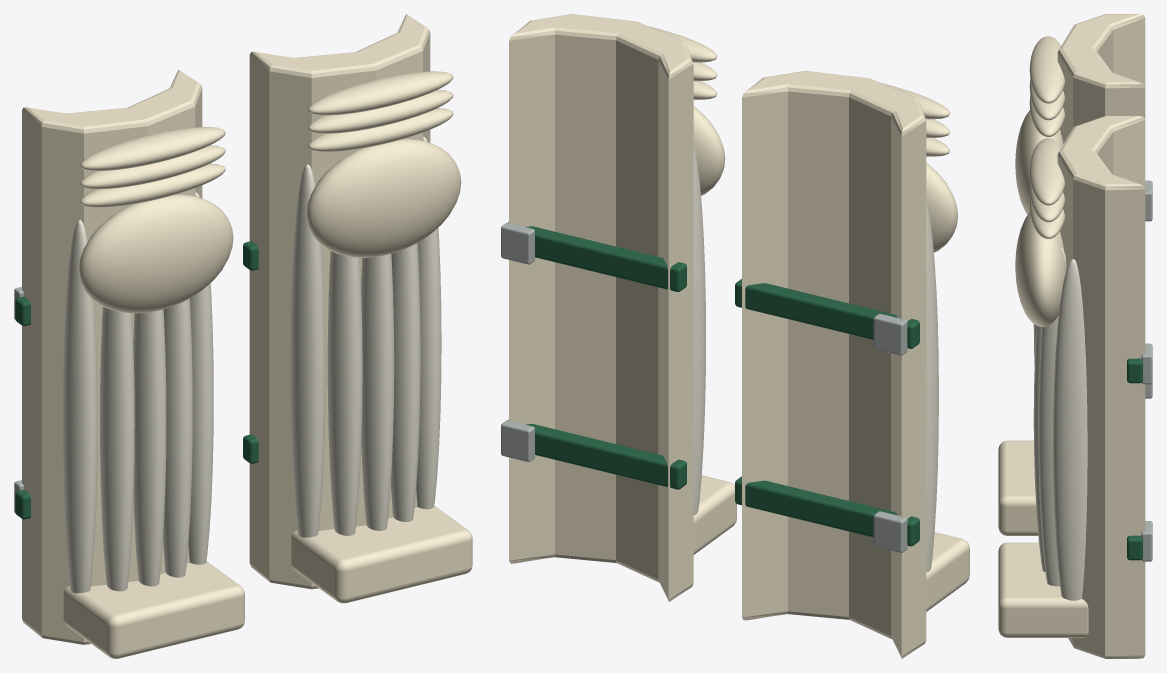
Rendered from cricket-ground-and-pavilion-batting-pad-pair-bdd92362__31315.glb.
The picture shows the model from 3 angles, left to right: view 1: azimuth 30°, elevation 25°; view 2: azimuth 150°, elevation 25°; view 3: azimuth 270°, elevation 25°; orthographic projection. The views are drawn at different scales.
Visible parts, largest first — view 1: batting-pad-pair; view 2: batting-pad-pair; view 3: batting-pad-pair.
Part boxes in pixels (bbox=[...]): batting-pad-pair: bbox=[14, 14, 472, 658]; batting-pad-pair: bbox=[501, 14, 969, 658]; batting-pad-pair: bbox=[998, 14, 1152, 658].
Bounding box in the file's own units: 0.53 × 0.652 × 0.192.
